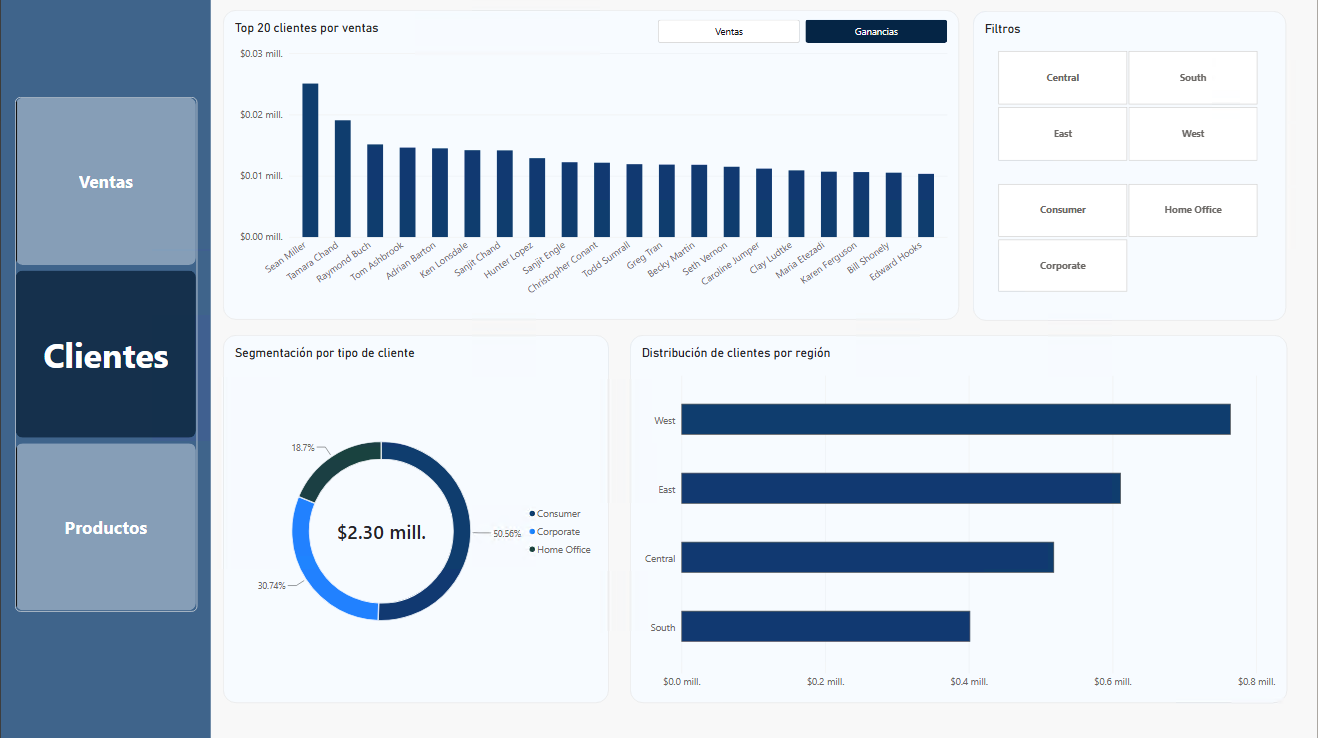

What the dashboard file says about the page in this screenshot:
{"tool":"powerbi","page":{"name":"Clientes","canvas":[1920,1080],"ordinal":1},"visuals":[{"type":"shape","box":[0,0,306.4,1079.6],"z":0},{"type":"pageNavigator","box":[20.4,144.4,265.5,751.4],"z":1000},{"type":"clusteredColumnChart","title":"Top 20 clientes por ventas","fields":{"Category":["client.Customer Name"],"Y":["Sum(sale.Sales)"]},"box":[323.9,17.5,1073.8,452.3],"z":2000},{"type":"bookmarkNavigator","box":[942.3,17.7,455.4,64.6],"z":4000},{"type":"donutChart","title":"Segmentación por tipo de cliente","fields":{"Category":["client.Segment"],"Y":["Sum(sale.Sales)"]},"box":[324.3,491.4,562.9,537.1],"z":5000},{"type":"clusteredBarChart","title":"Distribución de clientes por región","fields":{"Category":["client.Region"],"Y":["Sum(sale.Sales)"]},"box":[917.1,491.4,958.6,537.1],"z":6000},{"type":"kpi","title":"Filtros","fields":{"Indicator":["Medidas.Ganancia"]},"box":[1418.3,18.3,456.7,451.7],"z":9001},{"type":"slicer","fields":{"Values":["client.Region"]},"box":[1418.6,61.4,450,194.3],"z":9002},{"type":"slicer","fields":{"Values":["client.Segment"]},"box":[1418.6,255.7,450,191.4],"z":9003}]}

Visuals, with their boxes in screenshot pixels (x1, y1, x2, y2), scaled from the page's 1920x1080 canvas onto the 1318x738 screenshot:
shape: bbox=(0, 0, 210, 737)
pageNavigator: bbox=(14, 99, 196, 612)
"Top 20 clientes por ventas" clusteredColumnChart: bbox=(222, 12, 959, 321)
bookmarkNavigator: bbox=(647, 12, 959, 56)
"Segmentación por tipo de cliente" donutChart: bbox=(223, 336, 609, 703)
"Distribución de clientes por región" clusteredBarChart: bbox=(630, 336, 1288, 703)
"Filtros" kpi: bbox=(974, 13, 1287, 321)
slicer - client.Region: bbox=(974, 42, 1283, 175)
slicer - client.Segment: bbox=(974, 175, 1283, 306)
